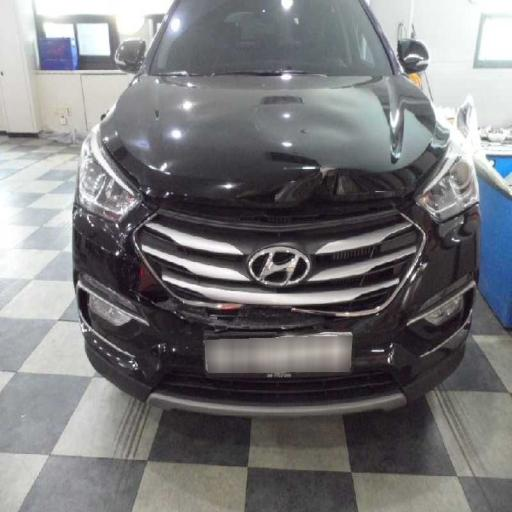broken: (147, 257, 366, 398)
dent: (204, 82, 370, 154), (224, 151, 372, 217)
